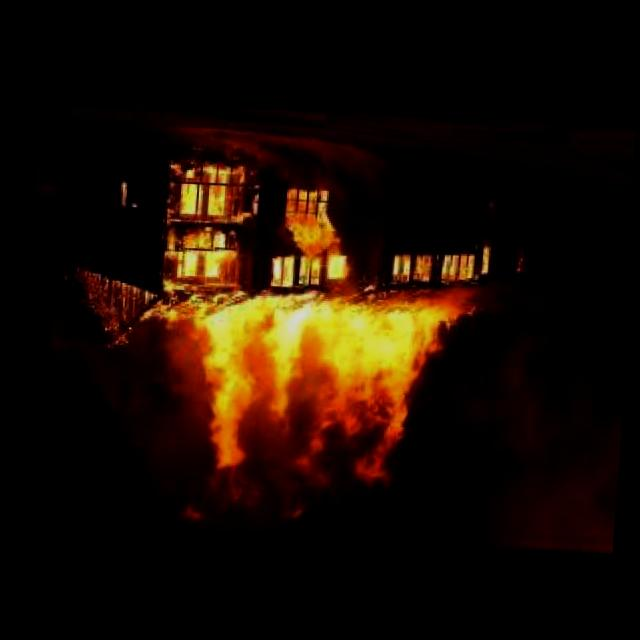helmet: (152, 289, 457, 494), (165, 165, 353, 287), (393, 242, 492, 288)
no_helmet: (159, 293, 459, 531), (272, 186, 339, 258), (171, 163, 238, 223), (173, 240, 238, 279)
